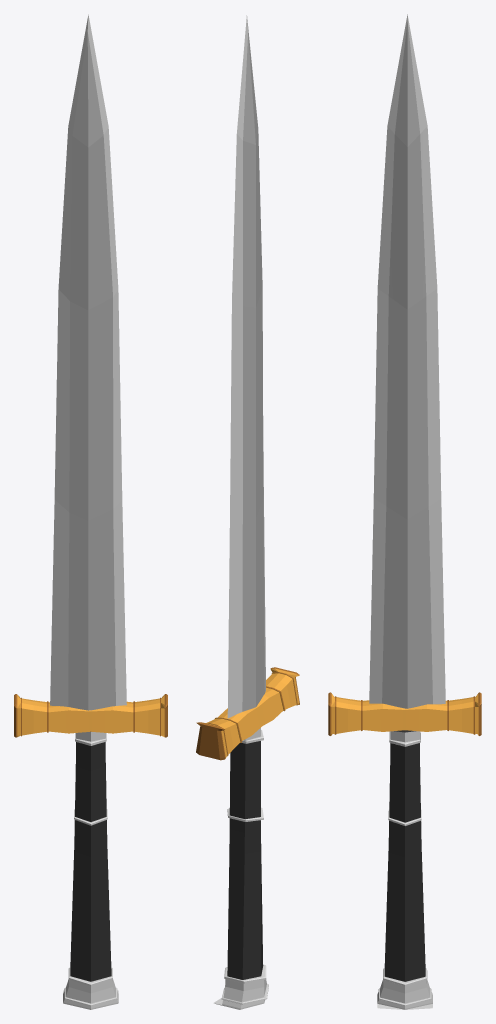
The model's file is Dagger.fbx.
The picture shows the model from 3 angles, left to right: view 1: azimuth 90°, elevation 25°; view 2: azimuth 150°, elevation 25°; view 3: azimuth 270°, elevation 25°; orthographic projection.
Visible parts, largest first — view 1: Blade; view 2: Blade; view 3: Blade.
Boxes of the visible parts, left/top/right/bottom form: Blade: left=14, top=14, right=167, bottom=1009; Blade: left=196, top=15, right=299, bottom=1009; Blade: left=328, top=14, right=481, bottom=1009.
Size of the model in its own units: 1.08 by 23.68 by 3.34.
